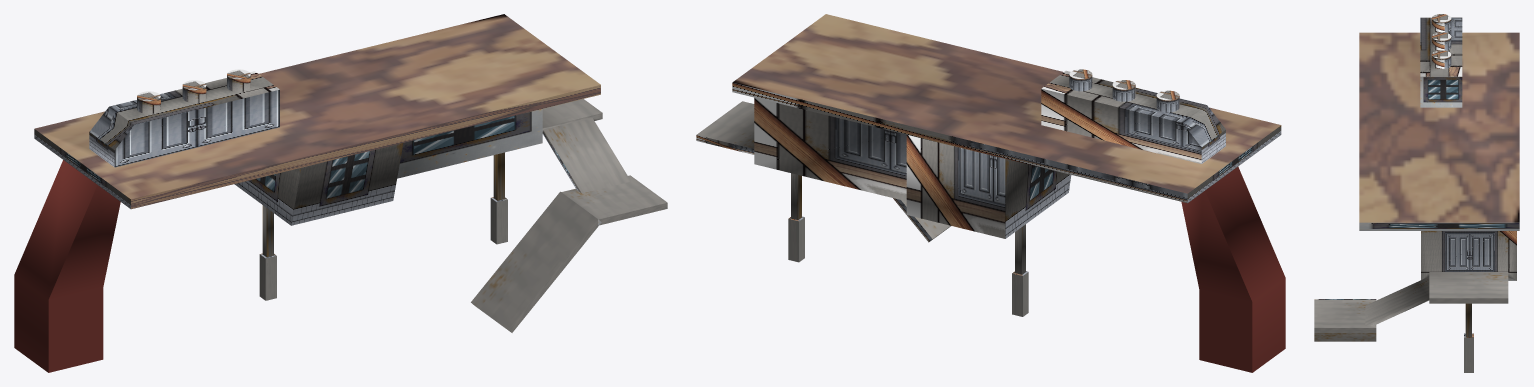
Rendered from suspended cabin_B.fbx.
The picture shows the model from 3 angles, left to right: view 1: azimuth 30°, elevation 25°; view 2: azimuth 150°, elevation 25°; view 3: azimuth 270°, elevation 25°; orthographic projection. The views are drawn at different scales.
Parts seen in each view (by area): view 1: pCube71; view 2: pCube71; view 3: pCube71.
Boxes of the visible parts, left/top/right/bottom form: pCube71: left=14, top=14, right=667, bottom=372; pCube71: left=696, top=14, right=1285, bottom=372; pCube71: left=1314, top=14, right=1519, bottom=372.
Size of the model in its own units: 518 by 222 by 199.
